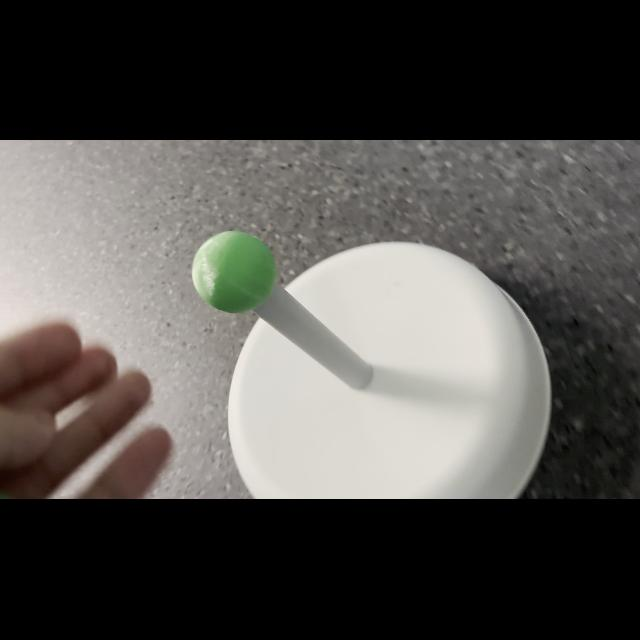objects: (186, 227, 282, 316)
